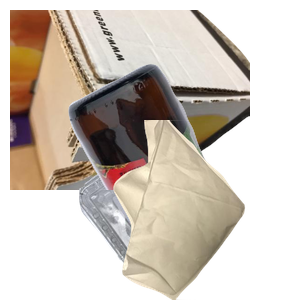cardboard: (10, 10, 250, 190)
glass: (66, 61, 300, 241)
plastic: (77, 133, 289, 300)
trash: (111, 120, 300, 300)
